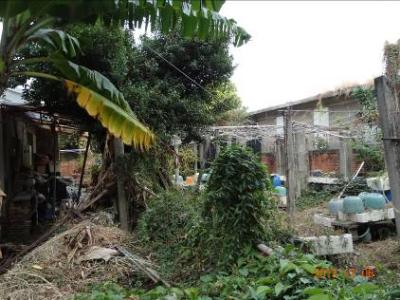bowl: (364, 193, 388, 211), (342, 195, 363, 213), (327, 198, 346, 216)
